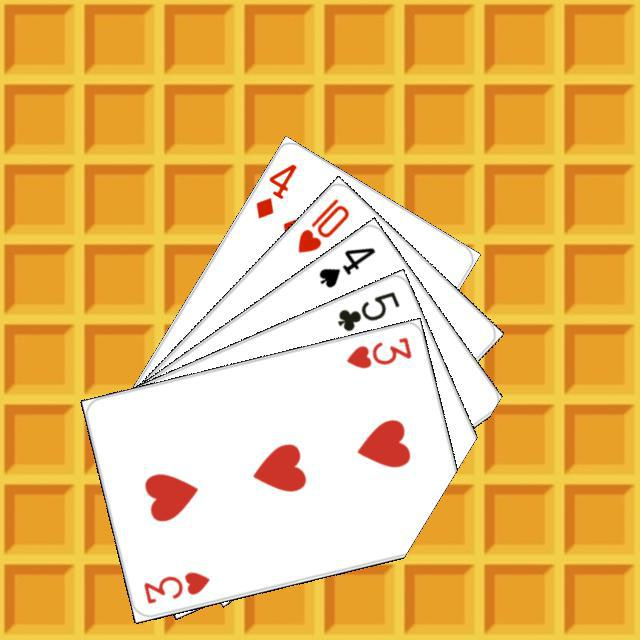10h: (292, 193, 351, 255)
3h: (138, 566, 212, 606), (341, 332, 413, 371)
4d: (250, 158, 299, 220)
4s: (313, 242, 378, 290)
5c: (332, 286, 401, 333)
